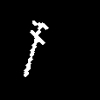double_crochet: (24, 21, 47, 76)
